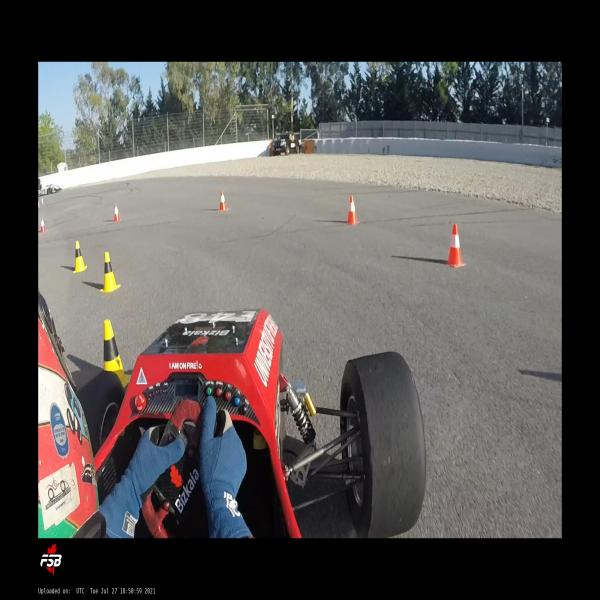orange_cone: (444, 224, 466, 268), (346, 195, 359, 226), (218, 190, 228, 212), (113, 203, 120, 223), (40, 217, 45, 233)
yellow_cone: (103, 320, 132, 387), (100, 252, 120, 293), (72, 240, 88, 273)
